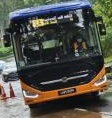bus: (30, 18, 43, 27)
